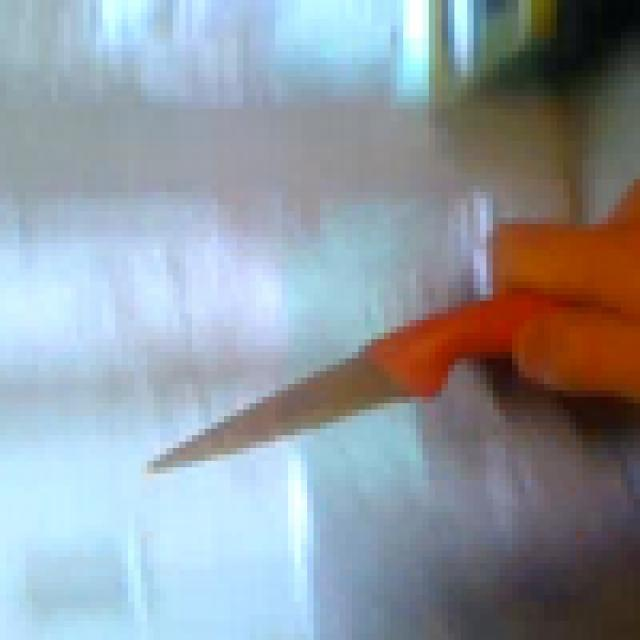Knife: (116, 256, 551, 480)
